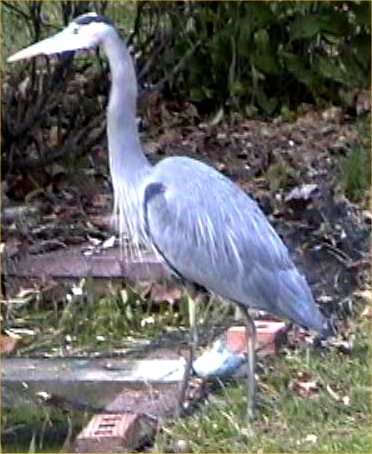heron: (5, 8, 332, 420)
